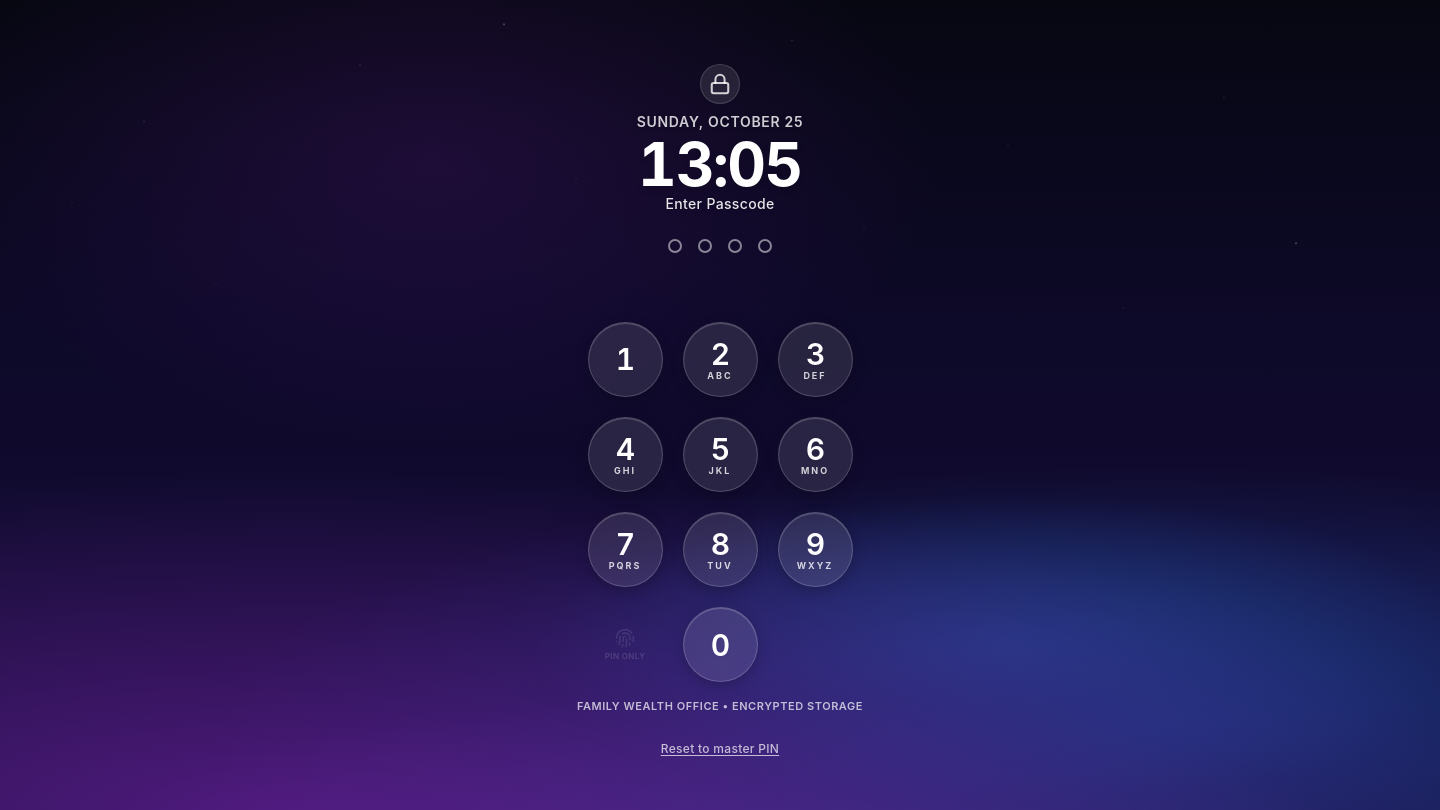
Test: PinLockScreen Component › displays error message on incorrect PIN entry
The width and height of the screenshot is (1440, 810).
Click 9, 9, 9, 9
Click the button with aria-label "Digit 9".
click(815, 550)  # box x1=778 y1=512 x2=852 y2=587
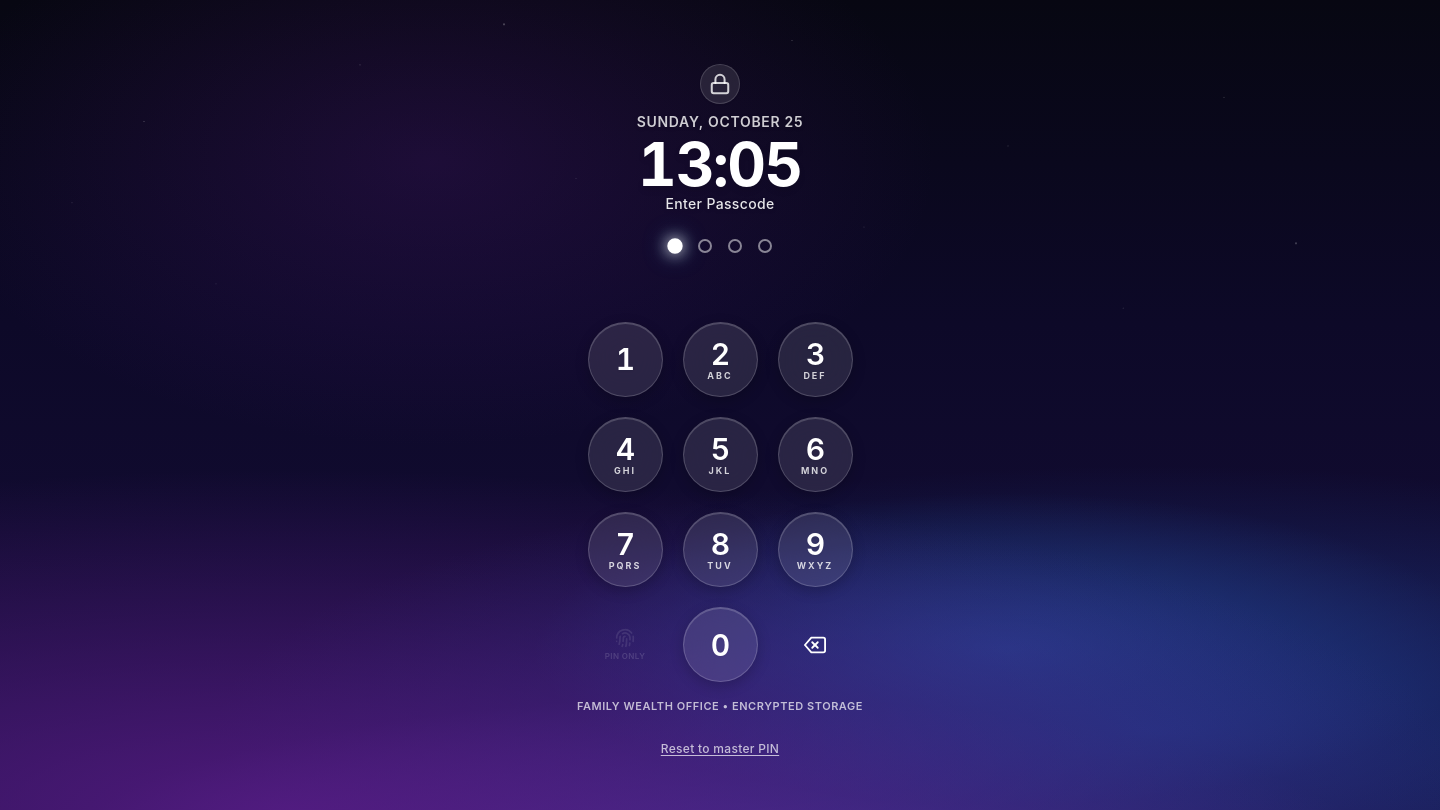
Click the button with aria-label "Digit 9".
click(815, 550)  # box x1=778 y1=512 x2=852 y2=587
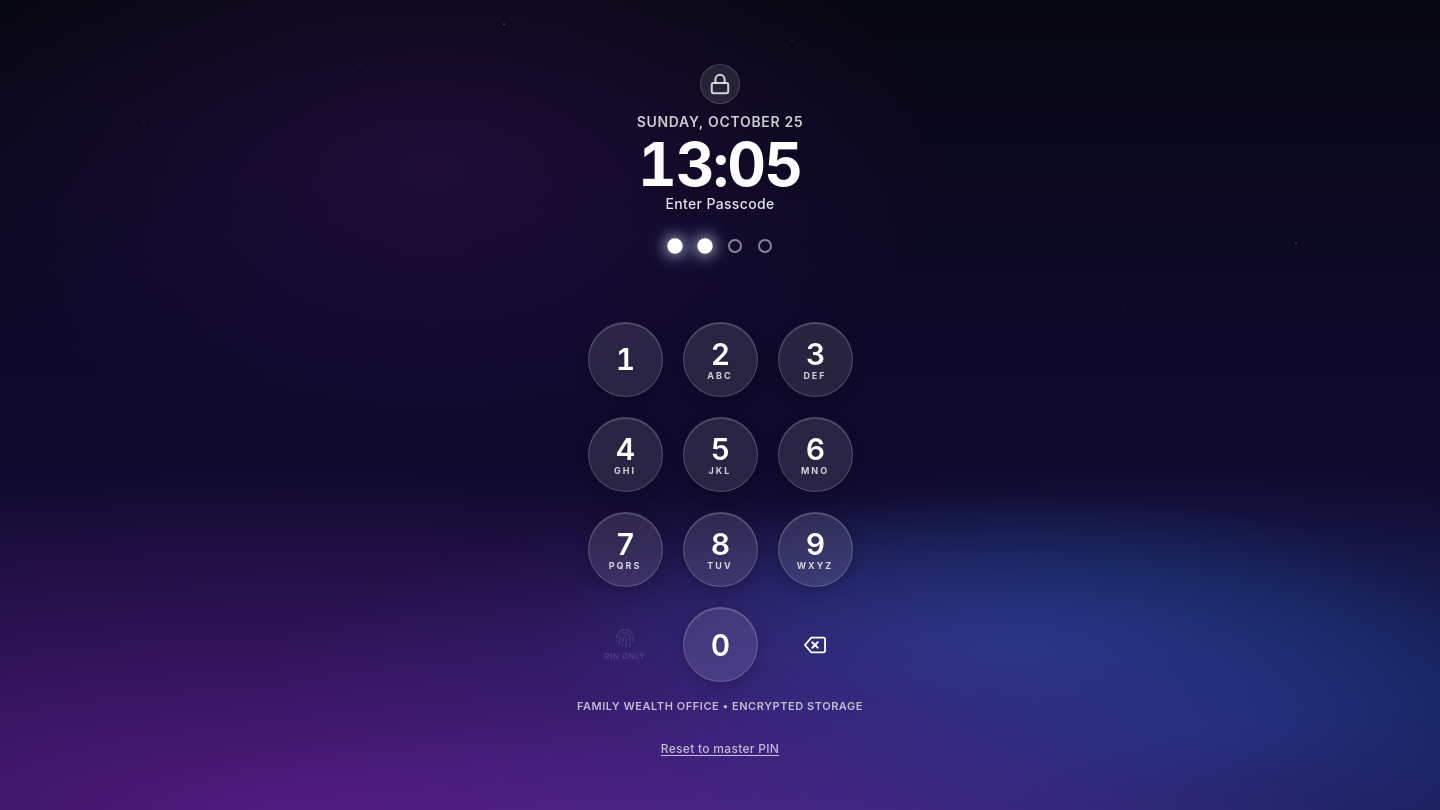
Click the button with aria-label "Digit 9".
click(815, 550)  # box x1=778 y1=512 x2=852 y2=587
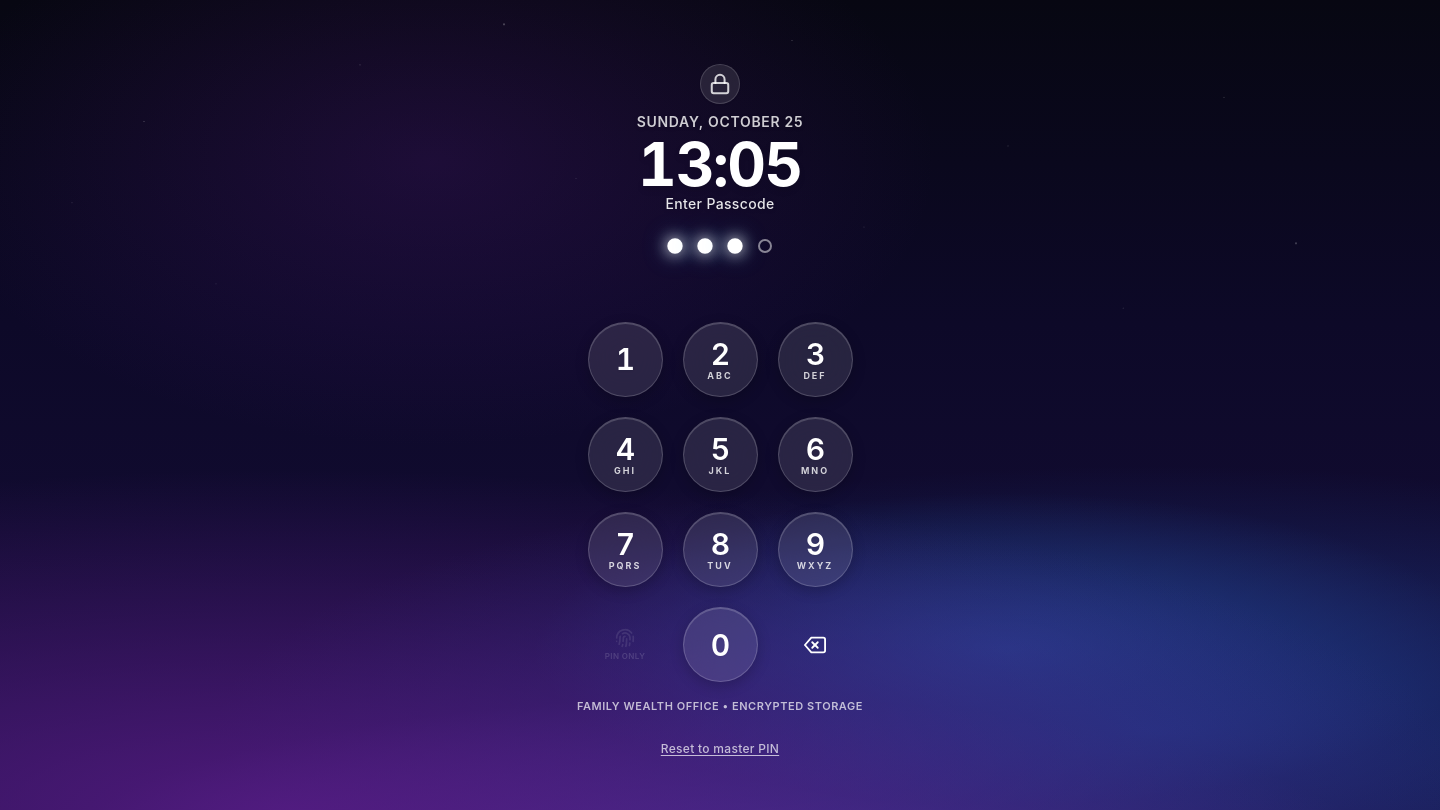
Click the button with aria-label "Digit 9".
click(815, 550)  # box x1=778 y1=512 x2=852 y2=587
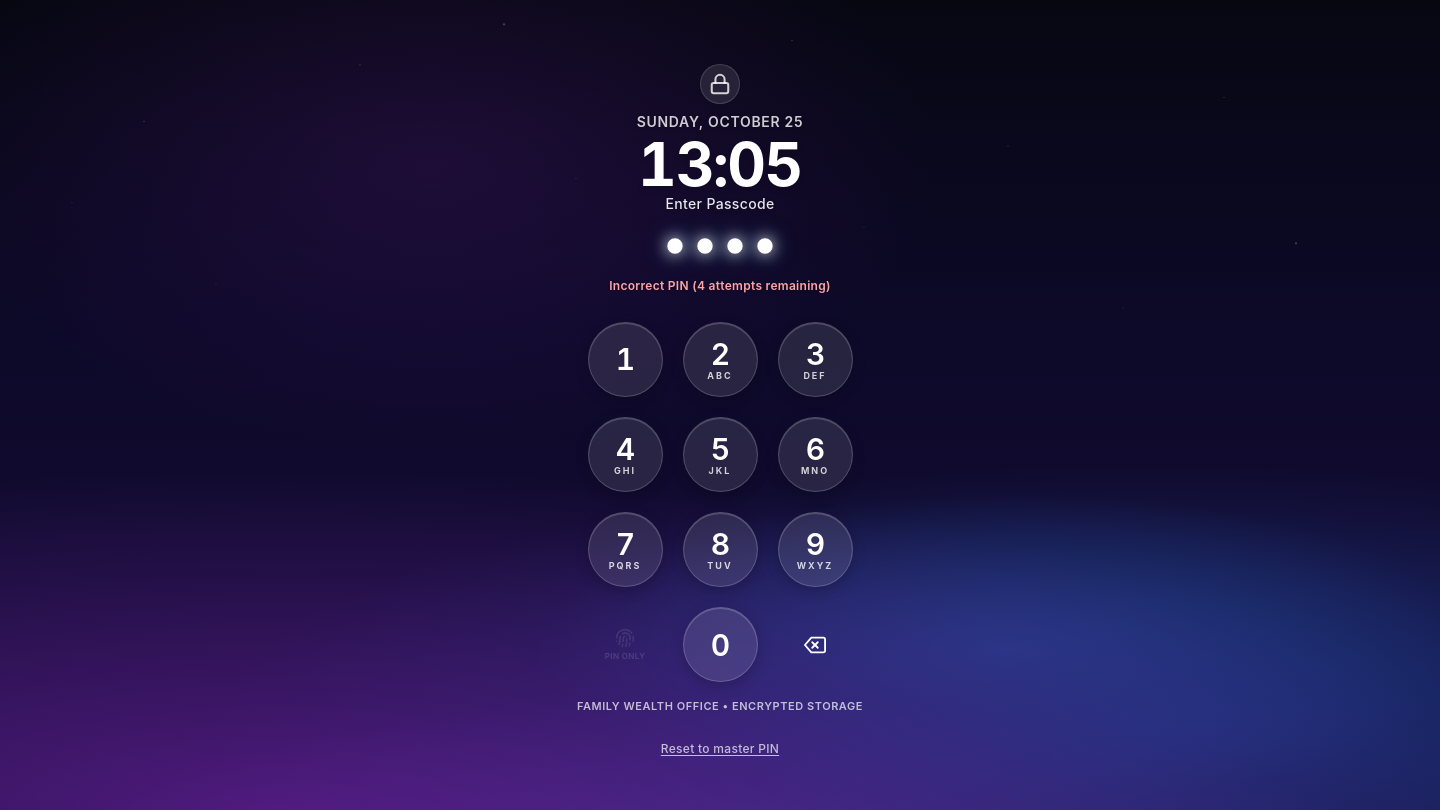
Check: the text "Incorrect PIN (4 attempts remaining)" is shown, box x1=609 y1=278 x2=831 y2=294
